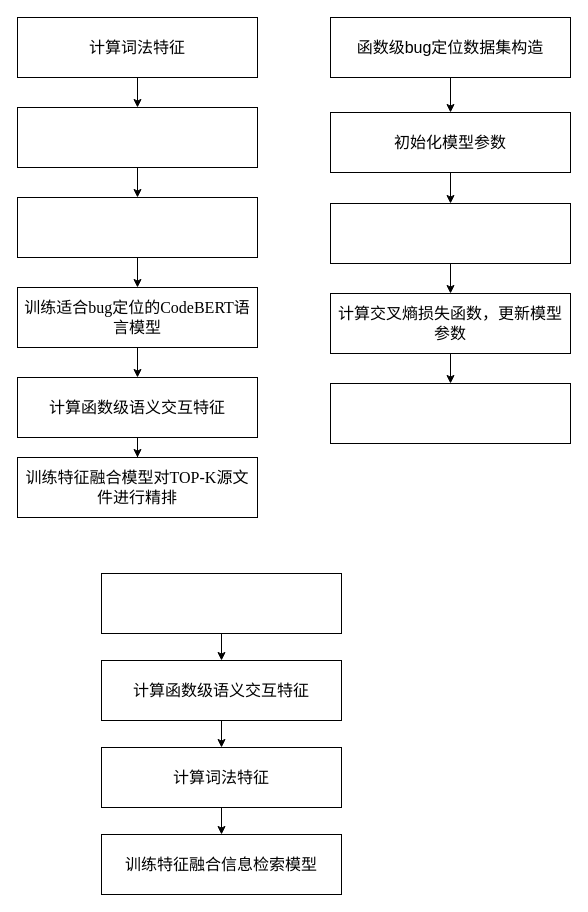
The diagram is 588 pixels wide and 912 high, and some of its shapes have lost their labels. Each missing label, with the centre of its shape:
"分批次输入模型" goes at (x=450, y=233).
"文件切割" goes at (x=221, y=603).
"构造函数级 bug 定位数据集" goes at (x=137, y=227).
"模型收敛 训练完成" goes at (x=450, y=413).
"训练信息检索模型" goes at (x=137, y=137).
